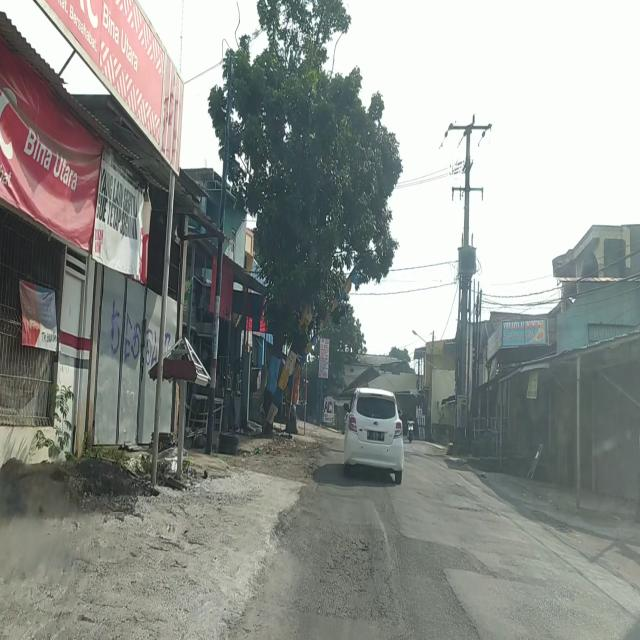Drain Hole: (317, 528, 387, 615)
